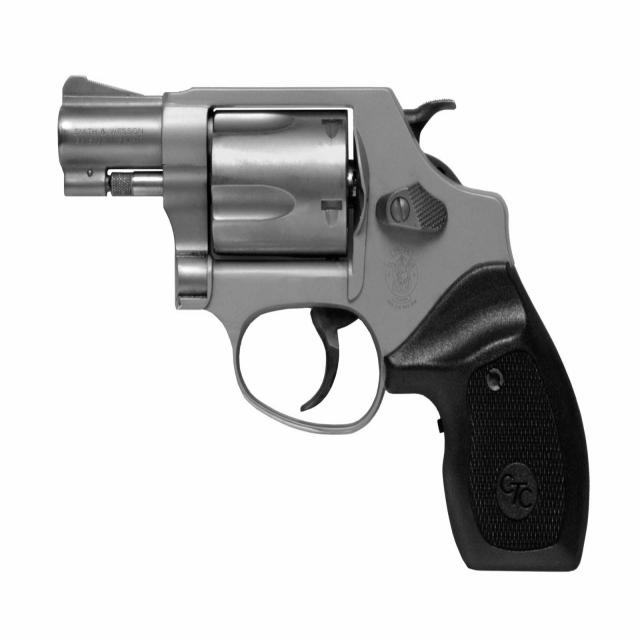Hand-Gun: (41, 52, 594, 600)
